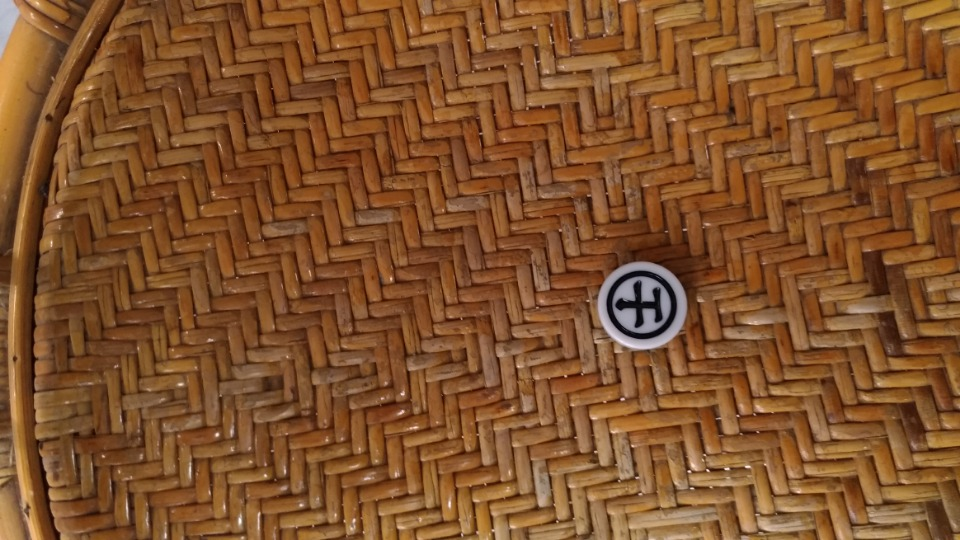b-advisor: (596, 259, 707, 364)
